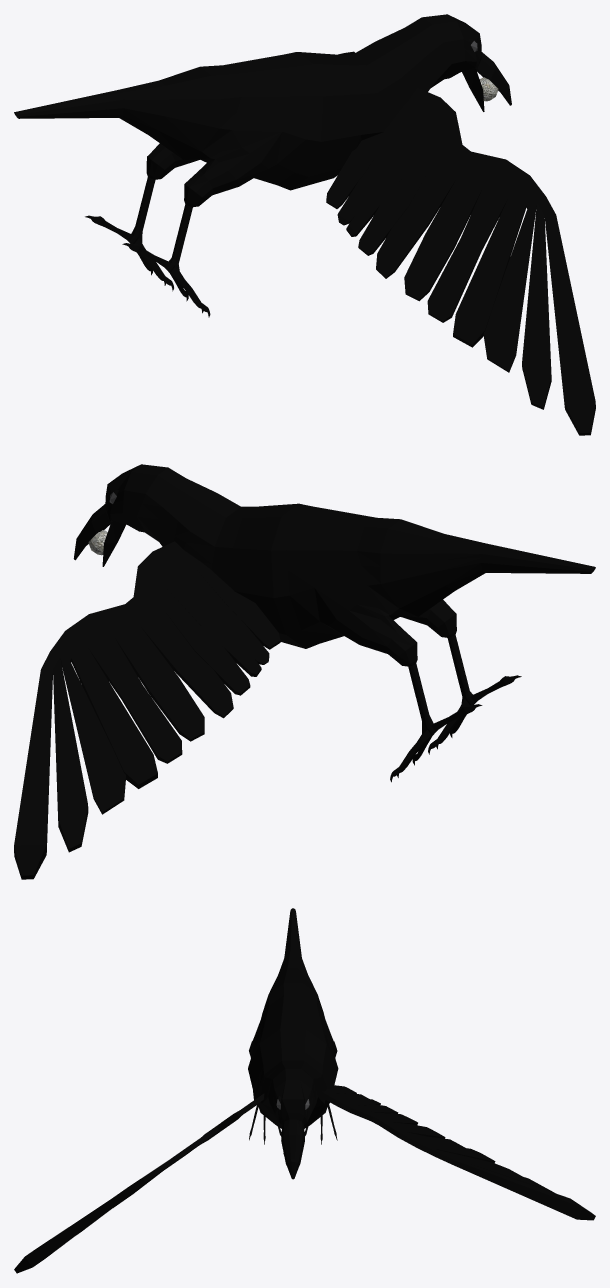
Rendered from crow_up_stone_000006.obj.
3 views of the same model, one above another, from view 1: azimuth 30°, elevation 25°; view 2: azimuth 150°, elevation 25°; view 3: azimuth 270°, elevation 25° (orthographic). The views are drawn at different scales.
Visible parts, largest first — view 1: Cylinder; view 2: Cylinder; view 3: Cylinder.
Part boxes in pixels (x1=…): Cylinder: x1=14, y1=14, x2=595, y2=435; Cylinder: x1=14, y1=464, x2=595, y2=879; Cylinder: x1=14, y1=908, x2=595, y2=1273.
Size of the model in its own units: 1.59 by 0.8751 by 2.11.
